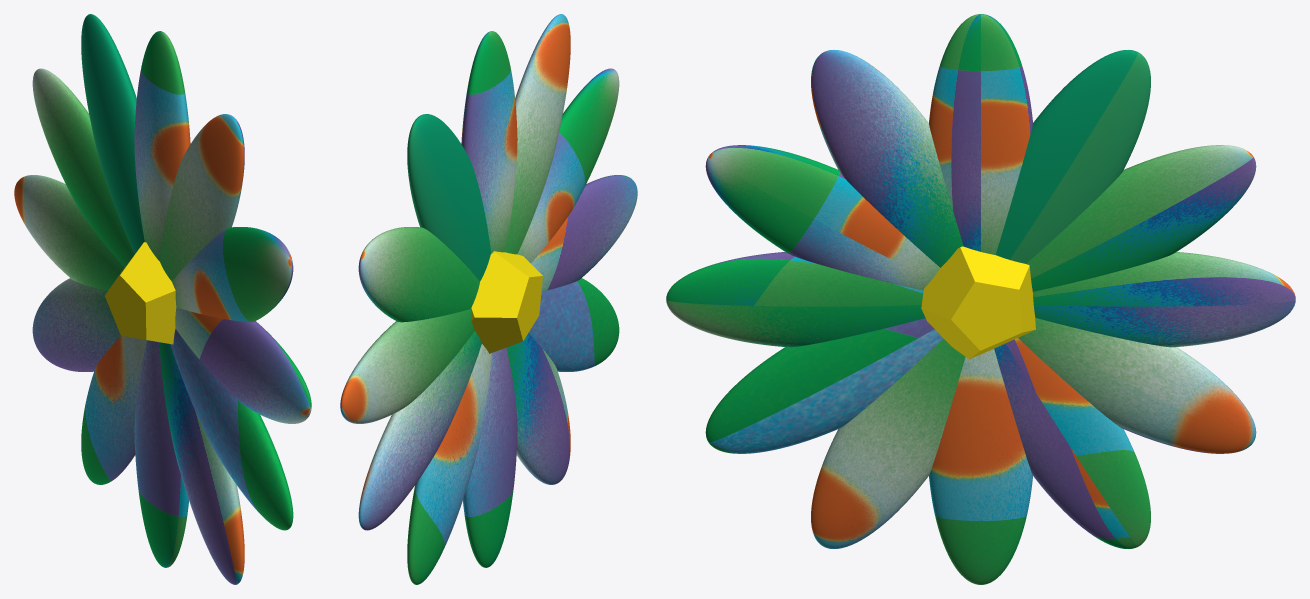
Rendered from SummerComingFlowerNew.gltf.
3 views of the same model, side by side, from view 1: azimuth 30°, elevation 25°; view 2: azimuth 150°, elevation 25°; view 3: azimuth 270°, elevation 25° (orthographic). The views are drawn at different scales.
Parts seen in each view (by area): view 1: Sphere 15, Sphere 5, Sphere 14, Sphere 4, Sphere 6, Sphere 13, Sphere 7, Sphere 12, Sphere 8, Sphere 11, Sphere 9, Sphere 10 (+1 smaller); view 2: Sphere 10, Sphere 9, Sphere 7, Sphere 8, Sphere 6, Sphere 11, Sphere 5, Sphere 12, Sphere 4, Sphere 13, Sphere 15, Sphere 14 (+1 smaller); view 3: Sphere 6, Sphere 7, Sphere 5, Sphere 4, Sphere 8, Sphere 9, Sphere 15, Sphere 14, Sphere 10, Sphere 11, Sphere 13, Sphere 12 (+1 smaller).
Boxes of the visible parts, box(x1,y1,x2,y2) form: Sphere 15: box(175, 307, 311, 423); Sphere 5: box(160, 114, 244, 281); Sphere 14: box(170, 328, 293, 530); Sphere 4: box(172, 227, 293, 322); Sphere 6: box(134, 31, 190, 261); Sphere 13: box(159, 342, 244, 584); Sphere 7: box(81, 14, 144, 254); Sphere 12: box(134, 340, 188, 567); Sphere 8: box(32, 68, 134, 267); Sphere 11: box(81, 335, 146, 484); Sphere 9: box(14, 175, 124, 290); Sphere 10: box(32, 278, 120, 371); Sphere 10: box(358, 331, 481, 530); Sphere 9: box(340, 309, 474, 423); Sphere 7: box(407, 114, 491, 281); Sphere 8: box(358, 227, 479, 322); Sphere 6: box(461, 31, 517, 253); Sphere 11: box(407, 344, 491, 584); Sphere 5: box(505, 14, 570, 254); Sphere 12: box(463, 347, 517, 567); Sphere 4: box(517, 68, 619, 263); Sphere 13: box(506, 333, 570, 484); Sphere 15: box(531, 175, 637, 291); Sphere 14: box(528, 278, 619, 371); Sphere 6: box(929, 14, 1032, 254); Sphere 7: box(995, 50, 1150, 263); Sphere 5: box(811, 50, 963, 267); Sphere 4: box(705, 145, 939, 290); Sphere 8: box(1026, 145, 1256, 291); Sphere 9: box(1032, 252, 1295, 347); Sphere 15: box(666, 252, 925, 347); Sphere 14: box(705, 318, 943, 453); Sphere 10: box(1018, 318, 1256, 453); Sphere 11: box(994, 338, 1150, 548); Sphere 13: box(811, 338, 965, 548); Sphere 12: box(929, 349, 1032, 584).
Size of the model in its own units: 0.0518 by 0.2882 by 0.2882.
Materials: 13 (12 with a texture image).
